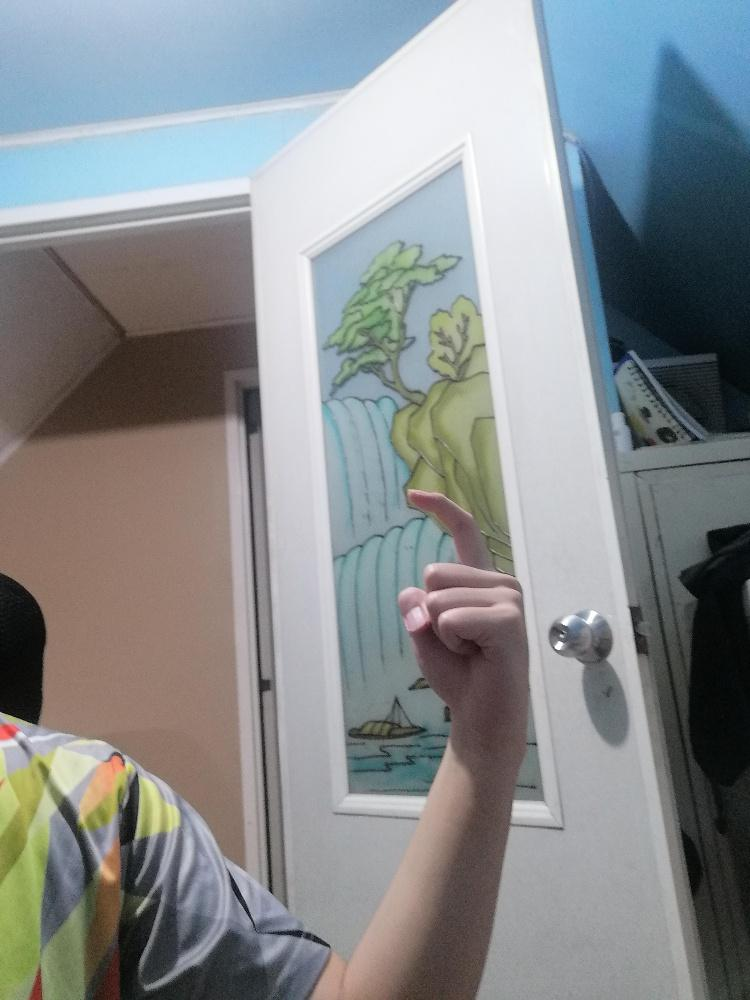x: (396, 484, 530, 734)
